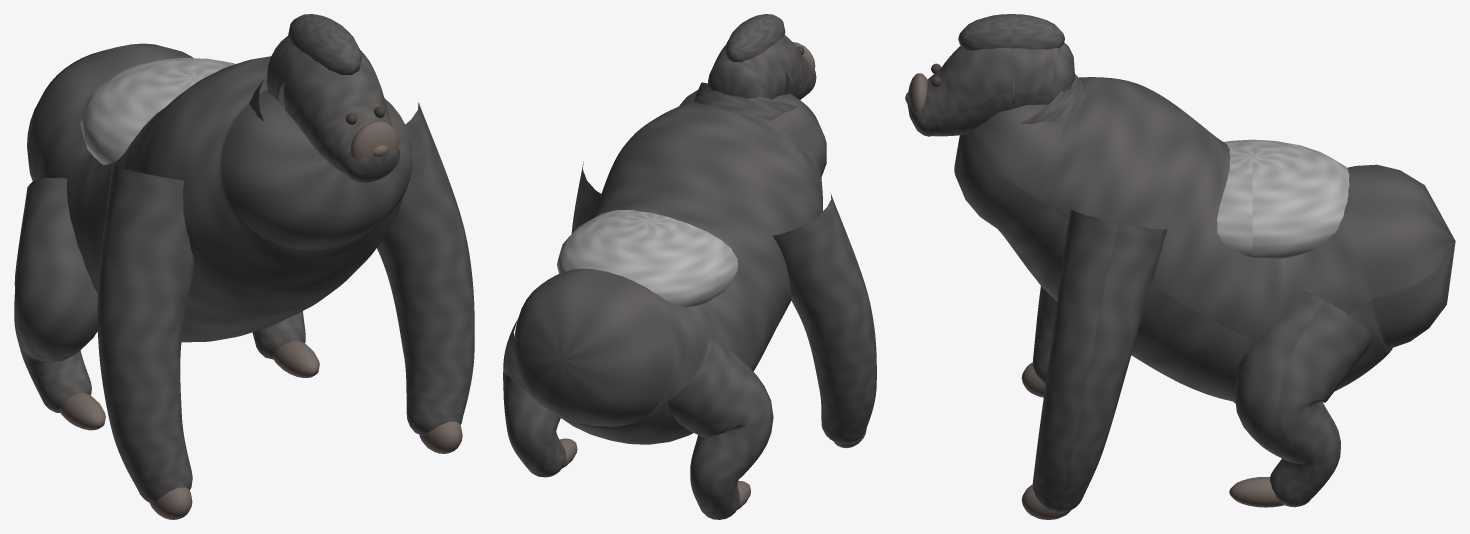
File: other-silverback-gorilla.glb
3 renders of one model, left to right at view 1: azimuth 30°, elevation 25°; view 2: azimuth 150°, elevation 25°; view 3: azimuth 270°, elevation 25°, orthographic. The views are drawn at different scales.
Parts seen in each view (by area): view 1: silverback-gorilla; view 2: silverback-gorilla; view 3: silverback-gorilla.
Part boxes in pixels (bbox=[...]): silverback-gorilla: bbox=[14, 14, 474, 519]; silverback-gorilla: bbox=[503, 14, 876, 519]; silverback-gorilla: bbox=[905, 14, 1455, 519].
Size of the model in its own units: 1.16 by 1.45 by 1.64.
5 materials, 3 textured.
